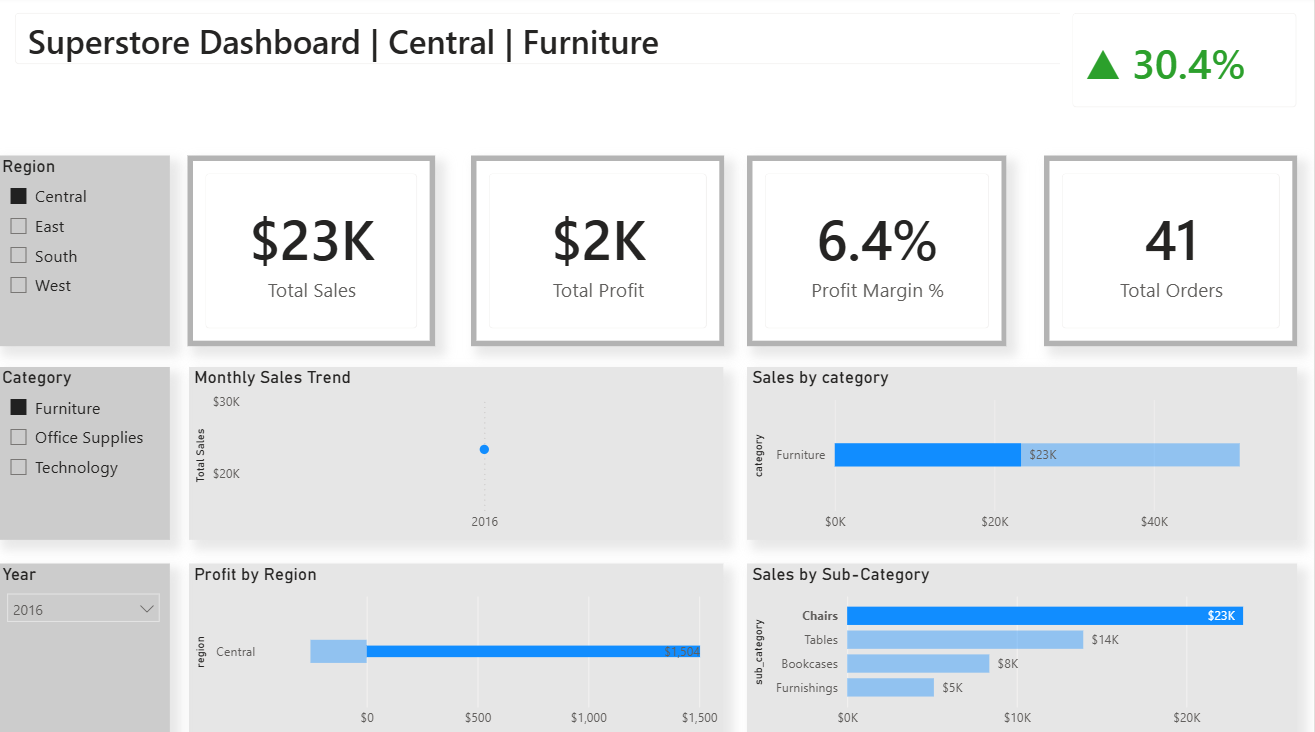

Layout of this report page (visuals, bound fields, positions):
{"tool":"powerbi","page":{"name":"Sales","canvas":[1280,720],"ordinal":0},"visuals":[{"type":"cardVisual","fields":{"Data":["_All Measures.Total Sales"]},"box":[185.1,156,240.5,185.1],"z":0},{"type":"cardVisual","fields":{"Data":["_All Measures.Total Profit"]},"box":[460.2,156.6,246.3,185.2],"z":1000},{"type":"cardVisual","fields":{"Data":["_All Measures.Profit Margin %"]},"box":[729.4,156.6,252.1,185.2],"z":2000},{"type":"cardVisual","fields":{"Data":["_All Measures.Total Orders"]},"box":[1017.8,156.6,246.3,185.2],"z":3000},{"type":"lineChart","title":"Monthly Sales Trend","fields":{"Category":["Dim_Date.Date.Variation.Date Hierarchy.Year","Dim_Date.Date.Variation.Date Hierarchy.Month"],"Y":["_All Measures.Total Sales"]},"box":[187.1,360.9,519.4,168],"z":4000},{"type":"clusteredBarChart","title":"Sales by category","fields":{"Category":["ecommerce_project superstore.category"],"Y":["_All Measures.Total Sales"]},"box":[729.4,360.9,534.7,168],"z":5000},{"type":"clusteredBarChart","title":"Profit by Region","fields":{"Category":["ecommerce_project superstore.region"],"Y":["_All Measures.Total Profit"]},"box":[187.1,551.8,519.4,168],"z":6000},{"type":"clusteredBarChart","title":"Sales by Sub-Category","fields":{"Category":["ecommerce_project superstore.sub_category"],"Y":["_All Measures.Total Sales"]},"box":[729.4,551.8,534.7,168],"z":7000},{"type":"slicer","title":"Region","fields":{"Values":["ecommerce_project superstore.region"]},"box":[0,156.6,168,185.2],"z":8000},{"type":"slicer","title":"Category","fields":{"Values":["ecommerce_project superstore.category"]},"box":[0,360.9,168,168],"z":9000},{"type":"slicer","title":"Year","fields":{"Values":["Dim_Date.Year"]},"box":[0,551.8,168,168],"z":10000},{"type":"textbox","box":[187.1,5.7,169.9,38.2],"z":11000},{"type":"textbox","box":[187.1,0,208.1,49.6],"z":12000},{"type":"cardVisual","fields":{"Data":["Dim_Date.Dashboard Title"]},"box":[0,0,1279.4,84],"z":13000},{"type":"cardVisual","fields":{"Data":["Dim_Date.YoY KPI Display"]},"box":[1027.9,0,252.1,126],"z":14000}]}

Visuals, with their boxes in screenshot pixels (x1, y1, x2, y2), scaled from the page's 1280x720 canvas onto the 1315x732 screenshot:
cardVisual - _All Measures.Total Sales: locate(190, 159, 437, 347)
cardVisual - _All Measures.Total Profit: locate(473, 159, 726, 347)
cardVisual - _All Measures.Profit Margin %: locate(749, 159, 1008, 347)
cardVisual - _All Measures.Total Orders: locate(1046, 159, 1299, 347)
"Monthly Sales Trend" lineChart: locate(192, 367, 726, 538)
"Sales by category" clusteredBarChart: locate(749, 367, 1299, 538)
"Profit by Region" clusteredBarChart: locate(192, 561, 726, 731)
"Sales by Sub-Category" clusteredBarChart: locate(749, 561, 1299, 731)
"Region" slicer: locate(0, 159, 173, 347)
"Category" slicer: locate(0, 367, 173, 538)
"Year" slicer: locate(0, 561, 173, 731)
textbox: locate(192, 6, 367, 45)
textbox: locate(192, 0, 406, 50)
cardVisual - Dim_Date.Dashboard Title: locate(0, 0, 1314, 85)
cardVisual - Dim_Date.YoY KPI Display: locate(1056, 0, 1314, 128)
